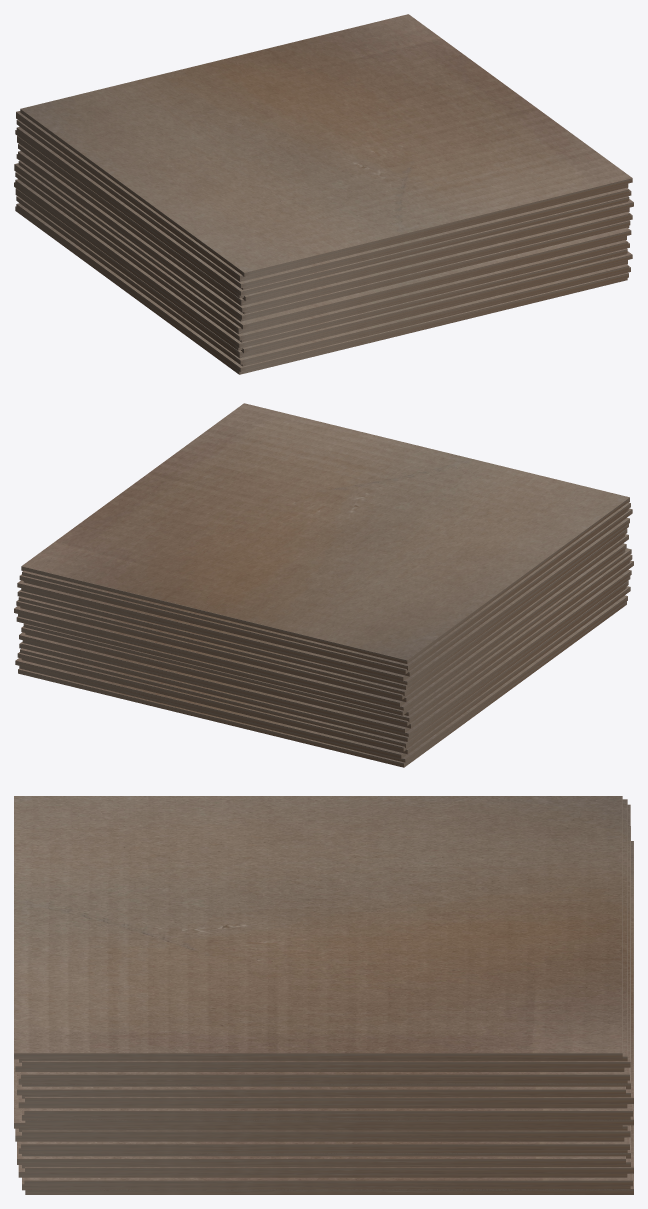
Rendered from PackageStack.fbx.
The picture shows the model from 3 angles, top to bottom: view 1: azimuth 30°, elevation 25°; view 2: azimuth 150°, elevation 25°; view 3: azimuth 270°, elevation 25°; orthographic projection. The views are drawn at different scales.
Visible parts, largest first — view 1: Cube.027, Cube.013, Cube.024, Cube.003, Cube.010, Cube.017, Cube.015, Cube.022, Cube.001, Cube.008, Cube.012, Cube.026 (+16 smaller); view 2: Cube.027, Cube.026, Cube.021, Cube.012, Cube, Cube.019, Cube.005, Cube.007, Cube.014, Cube.015, Cube.008, Cube.001 (+14 smaller); view 3: Cube.027, Cube.020, Cube.002, Cube.006, Cube.023, Cube.009, Cube.016, Cube.025, Cube.018, Cube.011, Cube.004, Cube.014 (+16 smaller).
Part boxes in pixels (x1=…): Cube.027: x1=20, y1=14, x2=632, y2=277; Cube.013: x1=18, y1=160, x2=631, y2=329; Cube.024: x1=16, y1=120, x2=629, y2=288; Cube.003: x1=16, y1=196, x2=628, y2=364; Cube.010: x1=15, y1=172, x2=627, y2=340; Cube.017: x1=18, y1=144, x2=630, y2=312; Cube.015: x1=18, y1=151, x2=630, y2=319; Cube.022: x1=16, y1=127, x2=629, y2=295; Cube.001: x1=16, y1=203, x2=628, y2=372; Cube.008: x1=15, y1=179, x2=627, y2=348; Cube.012: x1=14, y1=163, x2=626, y2=332; Cube.026: x1=16, y1=111, x2=628, y2=279; Cube.027: x1=21, y1=403, x2=629, y2=663; Cube.026: x1=22, y1=502, x2=630, y2=670; Cube.021: x1=20, y1=523, x2=628, y2=689; Cube.012: x1=23, y1=554, x2=632, y2=722; Cube: x1=18, y1=600, x2=626, y2=767; Cube.019: x1=18, y1=529, x2=627, y2=695; Cube.005: x1=20, y1=580, x2=628, y2=747; Cube.007: x1=21, y1=576, x2=630, y2=741; Cube.014: x1=16, y1=550, x2=625, y2=715; Cube.015: x1=18, y1=543, x2=626, y2=710; Cube.008: x1=22, y1=569, x2=631, y2=736; Cube.001: x1=19, y1=595, x2=627, y2=762; Cube.027: x1=14, y1=796, x2=622, y2=1059; Cube.020: x1=17, y1=1072, x2=625, y2=1095; Cube.002: x1=24, y1=1173, x2=632, y2=1186; Cube.006: x1=17, y1=1141, x2=625, y2=1164; Cube.023: x1=21, y1=1067, x2=629, y2=1080; Cube.009: x1=21, y1=1137, x2=629, y2=1149; Cube.016: x1=24, y1=1104, x2=632, y2=1116; Cube.025: x1=22, y1=804, x2=630, y2=1067; Cube.018: x1=25, y1=841, x2=633, y2=1103; Cube.011: x1=22, y1=1125, x2=630, y2=1137; Cube.004: x1=25, y1=1125, x2=633, y2=1173; Cube.014: x1=25, y1=1104, x2=633, y2=1125.
Size of the model in its own units: 204 by 51.53 by 204.
